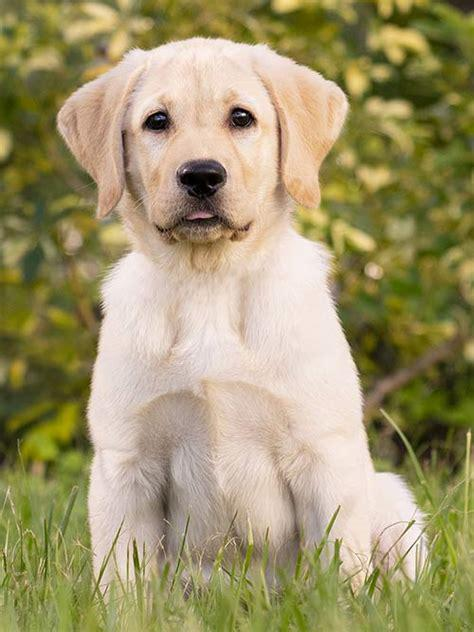dog: (58, 39, 426, 597)
